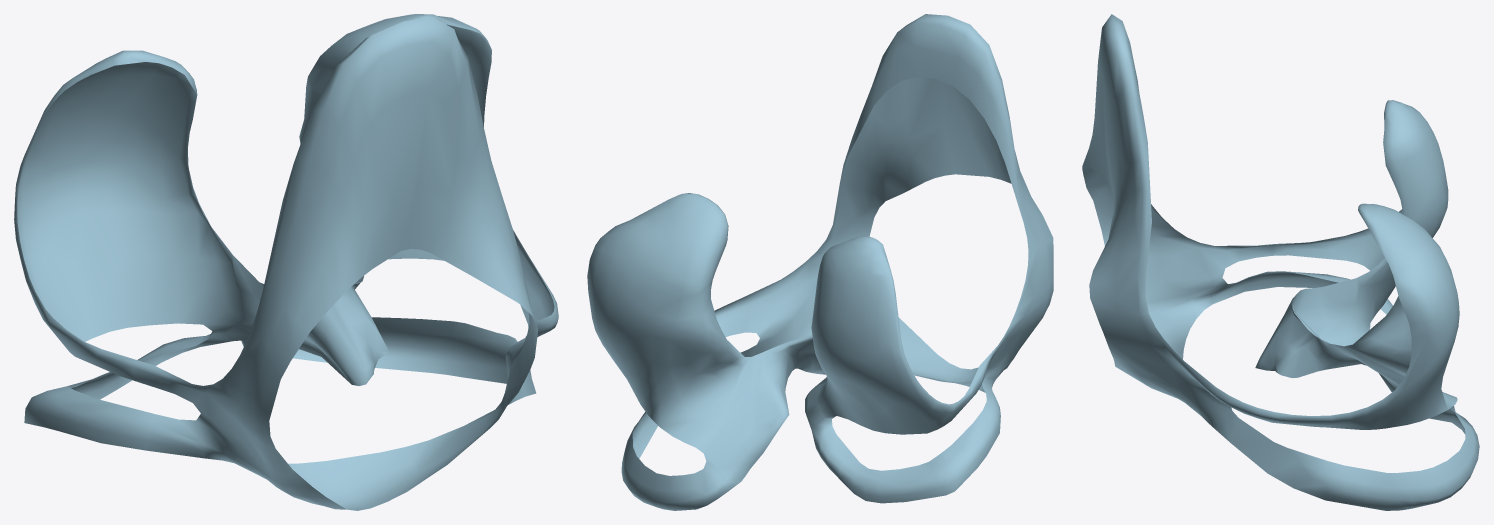
The model's file is articulacoes-articular-capsule-of-knee-joint-r.glb.
3 renders of one model, left to right at view 1: azimuth 30°, elevation 25°; view 2: azimuth 150°, elevation 25°; view 3: azimuth 270°, elevation 25°, orthographic. The views are drawn at different scales.
Visible parts, largest first — view 1: Articular capsule of knee joint.r; view 2: Articular capsule of knee joint.r; view 3: Articular capsule of knee joint.r.
Part boxes in pixels (box(x1,y1,x2,y2)): Articular capsule of knee joint.r: box(14, 14, 558, 510); Articular capsule of knee joint.r: box(587, 14, 1053, 510); Articular capsule of knee joint.r: box(1082, 14, 1479, 510).
Size of the model in its own units: 0.0787 by 0.0859 by 0.0761.
